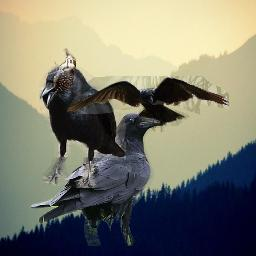Crow: (29, 113, 166, 246), (39, 66, 126, 188), (67, 76, 229, 132)
Woodpecker: (48, 48, 76, 91)
